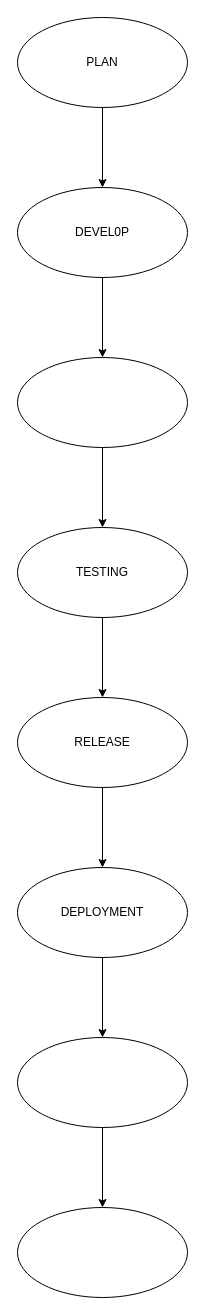
This 205x1315 diagram has some shape labels left out. The shapes that lost their labels are listed below. From the top down, each one's box as (x1, y1, x2, y2) in pixels, then its label:
(16, 356, 188, 448): BUILD
(16, 1036, 188, 1128): OPERATE
